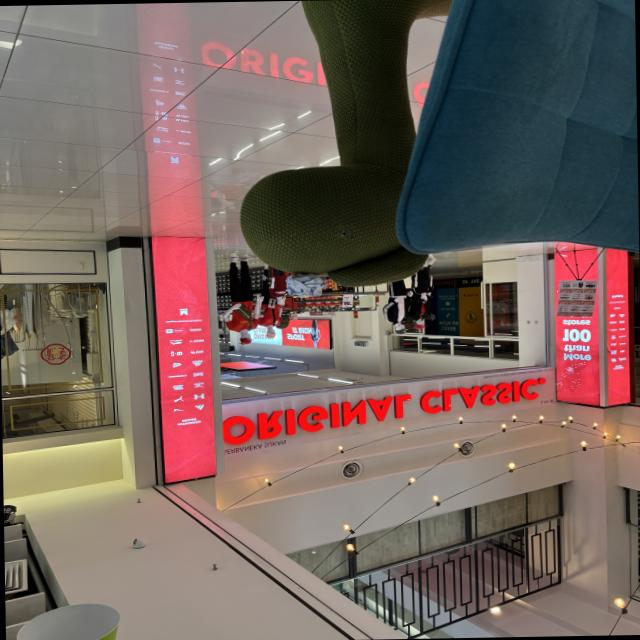crumpled_paper: (282, 272, 328, 300)
